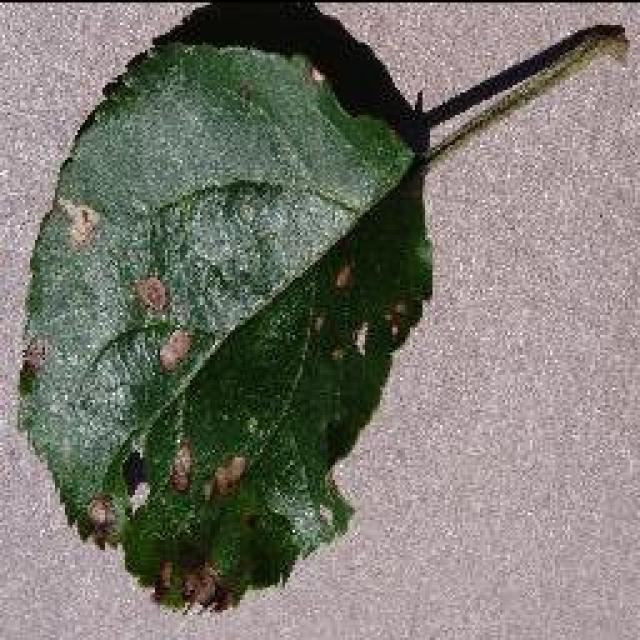Black_rot: (12, 0, 628, 615)
